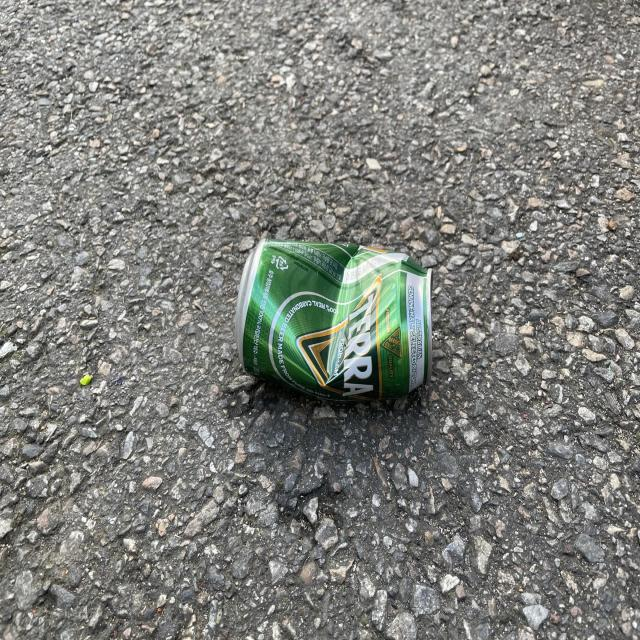can: (235, 239, 433, 402)
